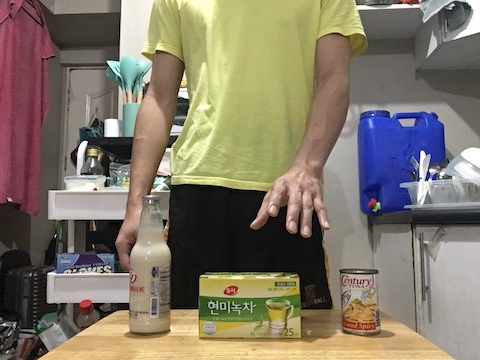bottle: (126, 192, 175, 337)
box: (194, 270, 305, 342)
can: (338, 264, 380, 336)
